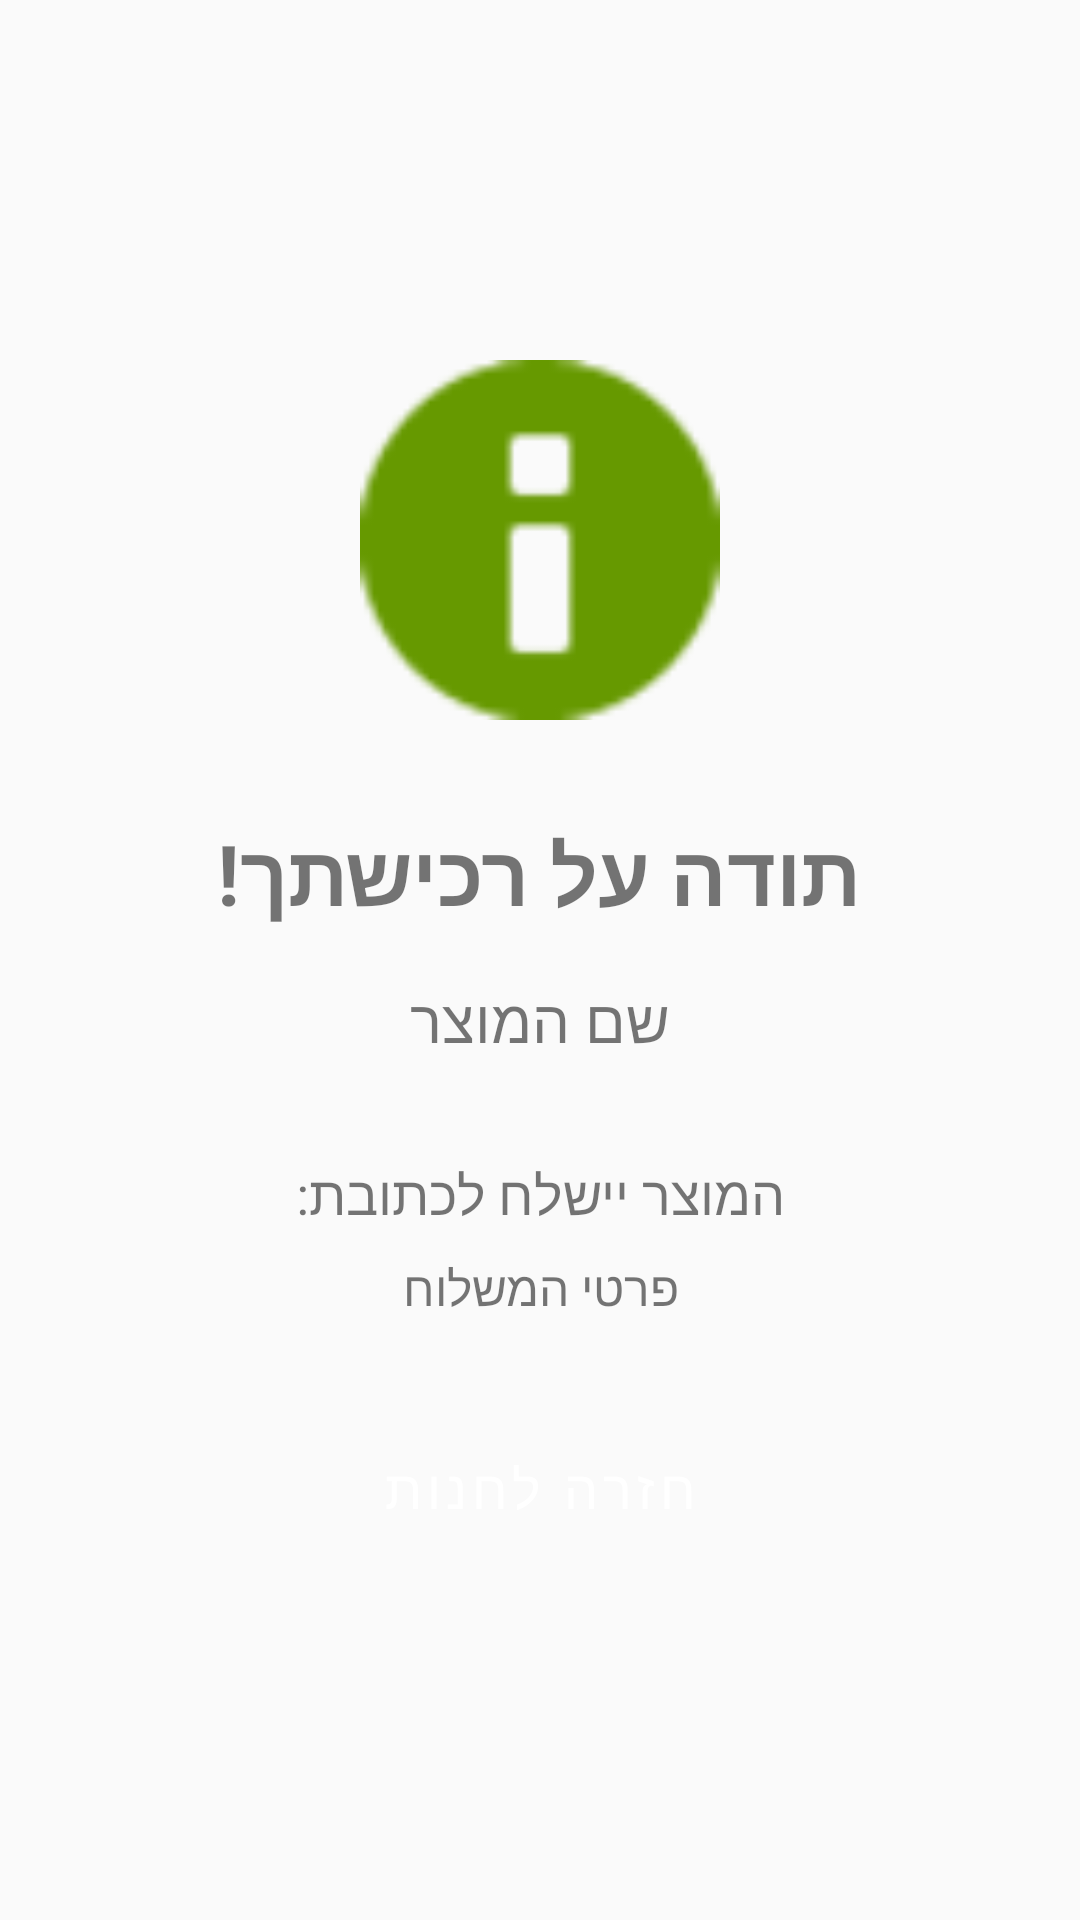

Icon click points for this 1080 x 1920 phone screenshot, format point (x, y):
info: point (540, 540)
